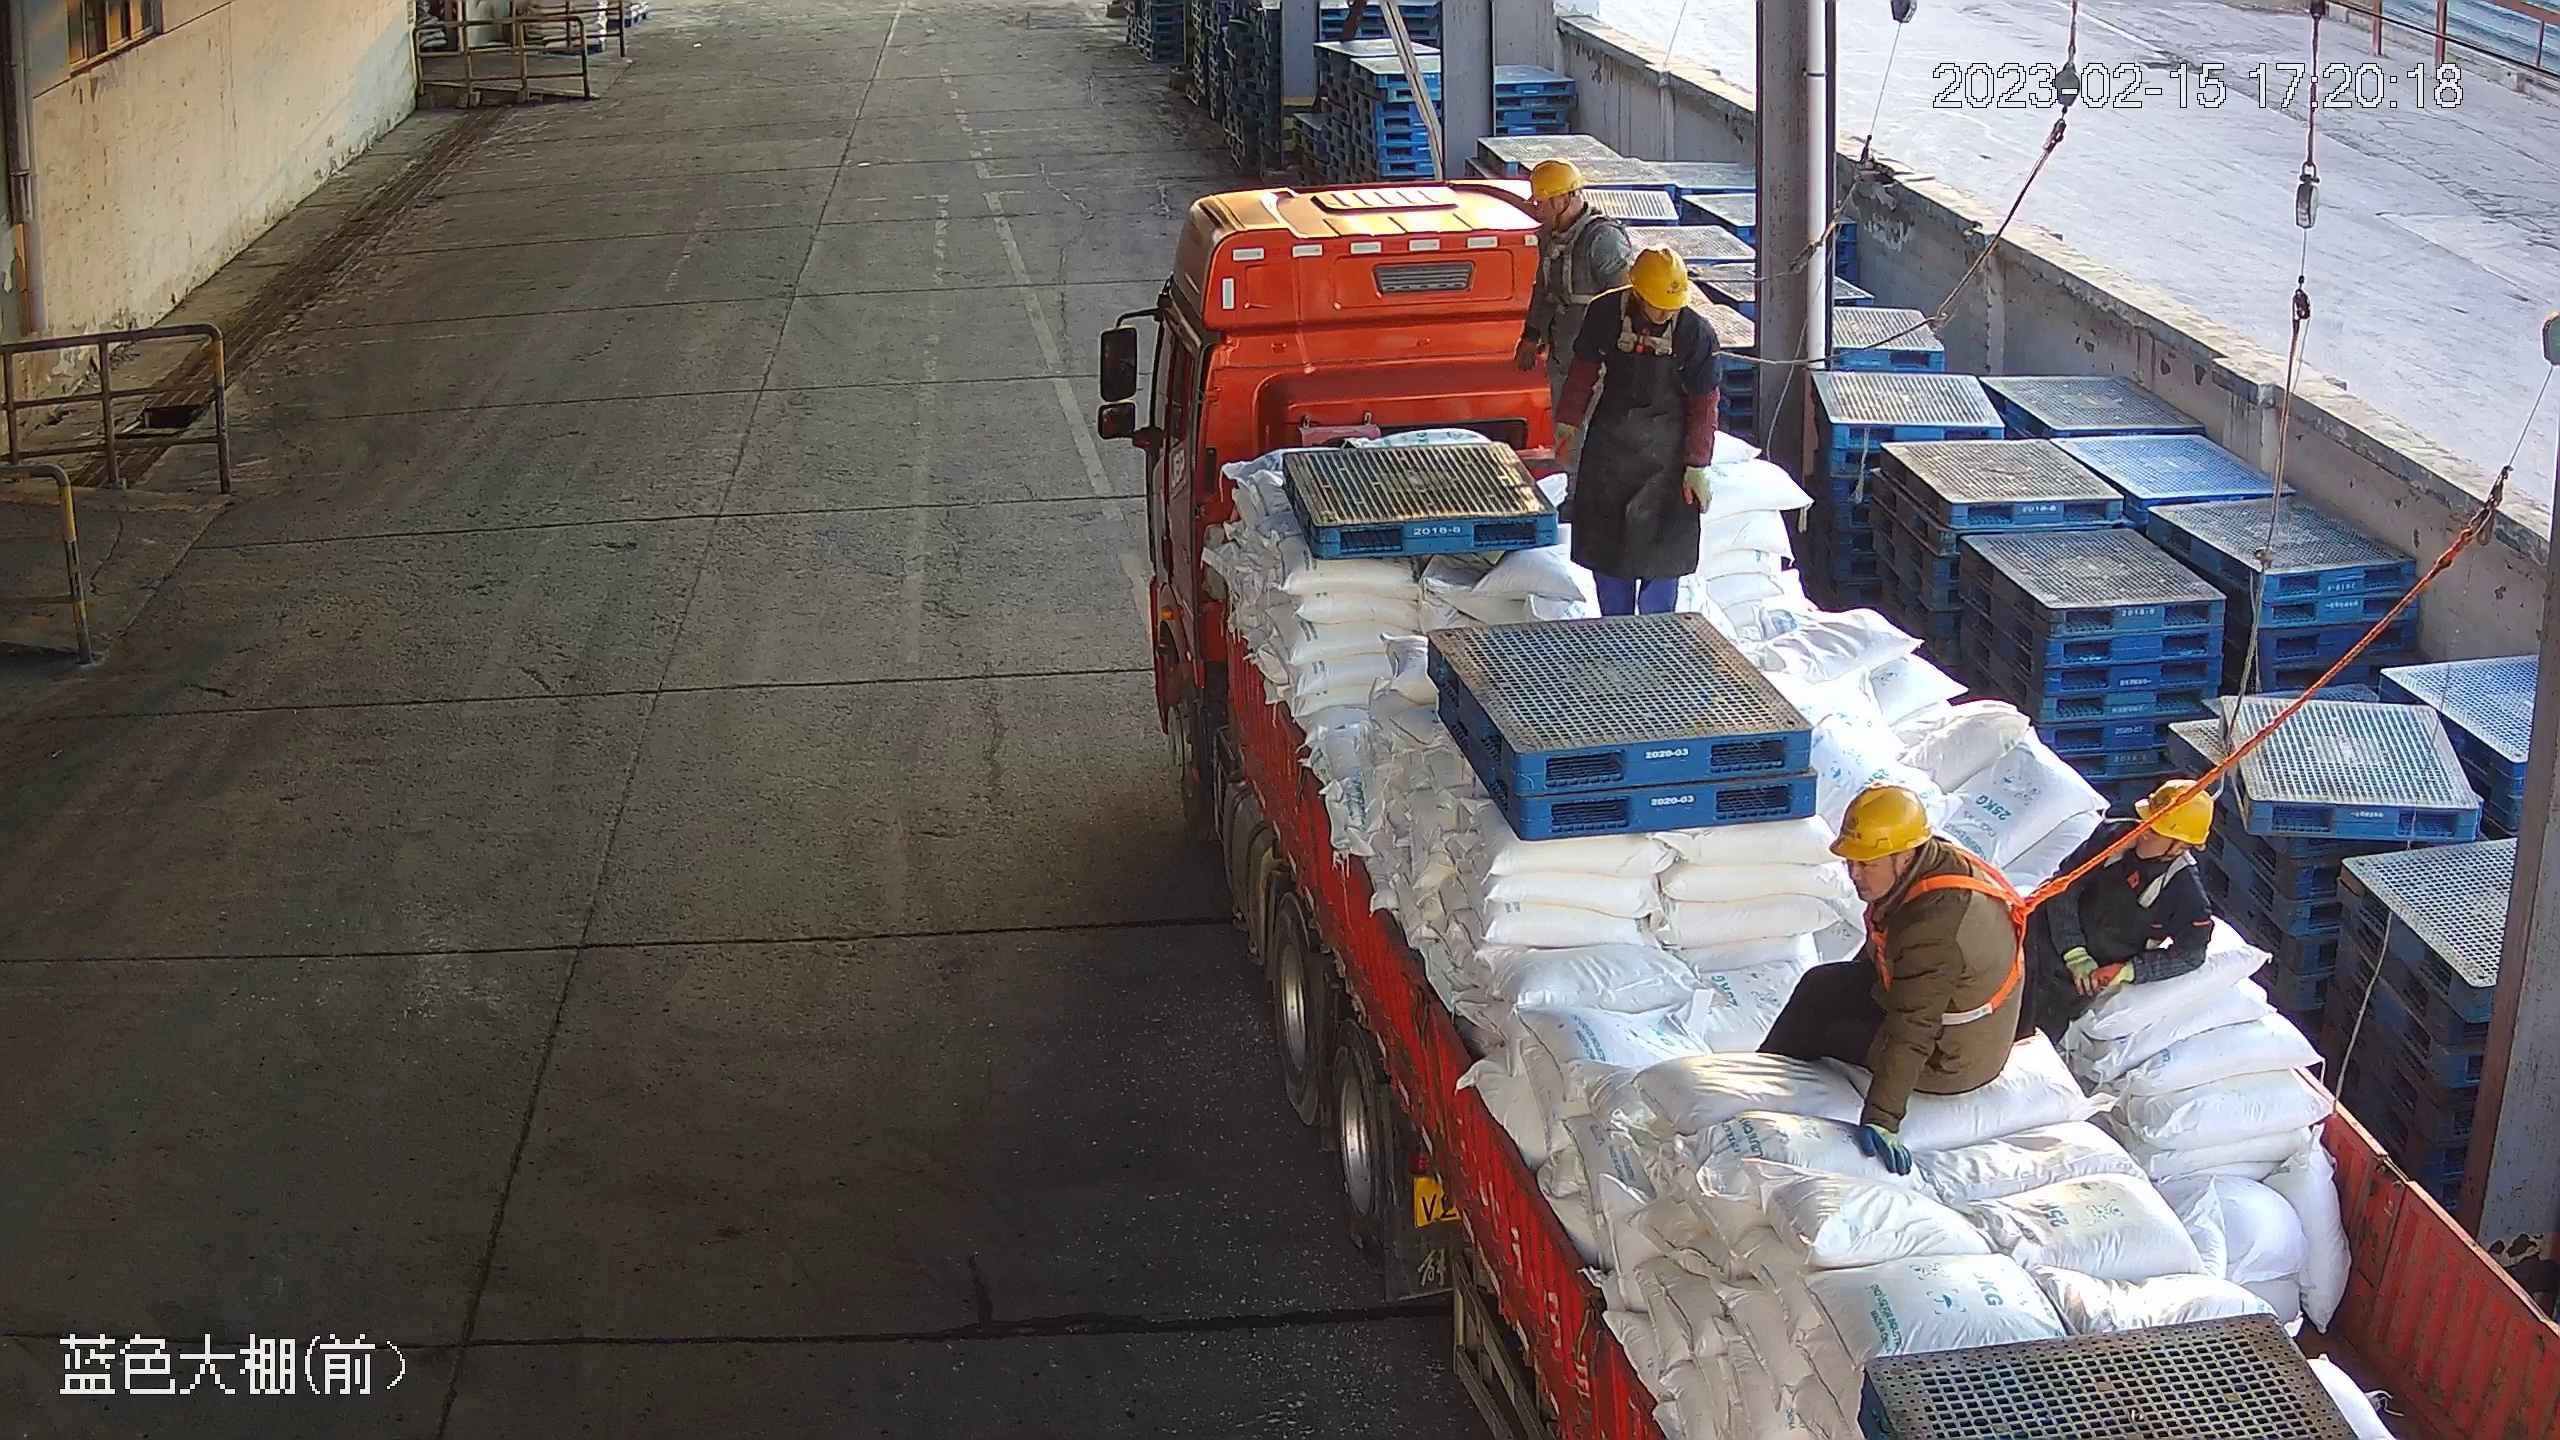belt: (1860, 840, 2036, 1029), (2088, 841, 2207, 906), (1618, 290, 1685, 366), (1535, 227, 1594, 306)
head: (1786, 780, 2022, 966), (2046, 786, 2220, 936), (1577, 249, 1720, 393), (1525, 157, 1629, 260)
helmet: (1831, 769, 1938, 864), (2140, 773, 2216, 853), (1629, 240, 1698, 312), (1520, 151, 1596, 212)
people: (1781, 779, 2042, 1154), (1573, 243, 1725, 623)
truck: (1120, 169, 2560, 1440)
